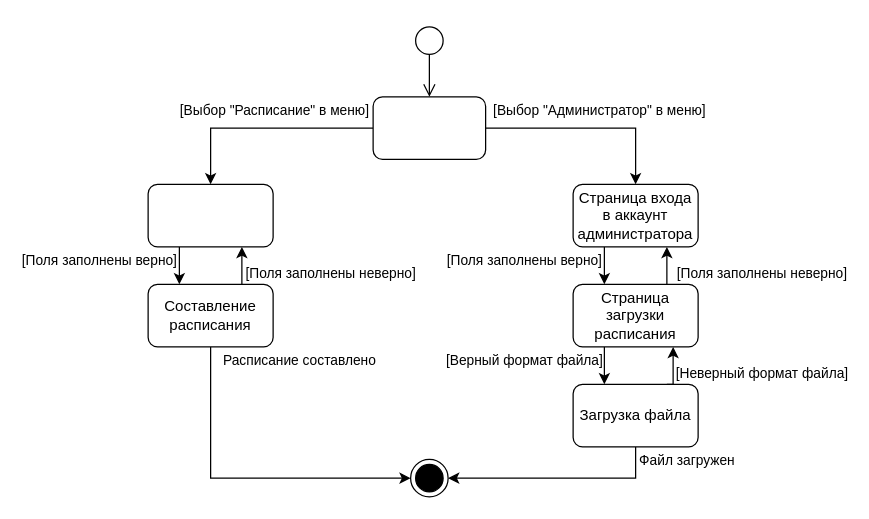
The diagram is 869 pixels wide and 519 high, and some of its shapes have lost their labels. Here are the shapes that lost their labels. From the top down, the centre of each, then its label:
At (x=429, y=127): "Главная страница".
At (x=210, y=215): "Страница расписания".
